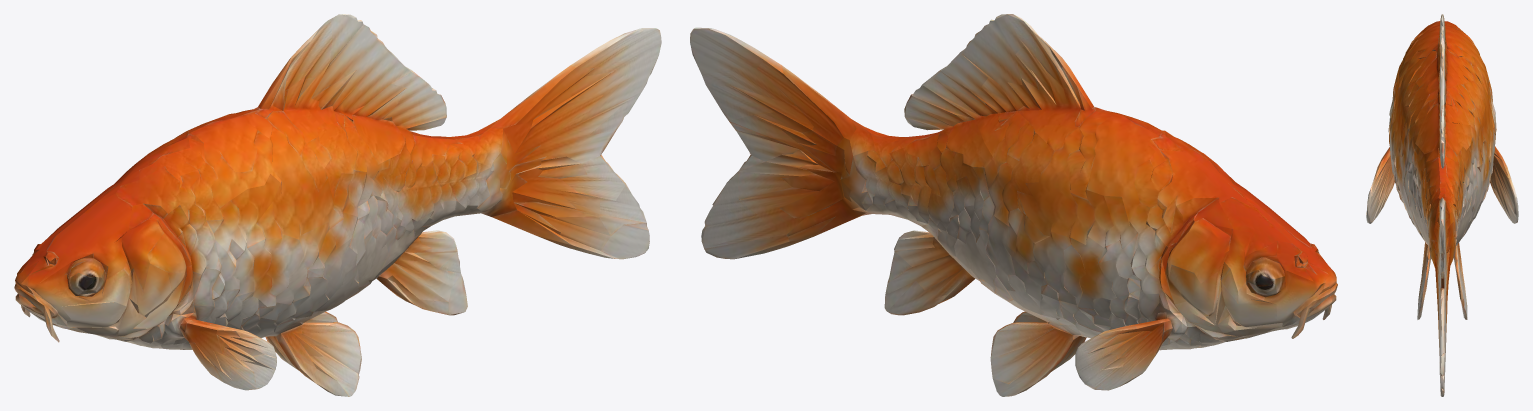
File: fishCrucian.glb
The picture shows the model from 3 angles, left to right: view 1: azimuth 30°, elevation 25°; view 2: azimuth 150°, elevation 25°; view 3: azimuth 270°, elevation 25°; orthographic projection. The views are drawn at different scales.
Parts seen in each view (by area): view 1: Mesh_0; view 2: Mesh_0; view 3: Mesh_0.
Boxes of the visible parts, x1,y1,x2,y2 form: Mesh_0: (14,14,661,396); Mesh_0: (690,14,1337,396); Mesh_0: (1366,14,1518,396).
Size of the model in its own units: 0.3275 by 0.18 by 0.0812.
Materials: 1 (1 with a texture image).
